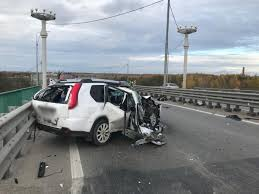car: (31, 65, 171, 143)
